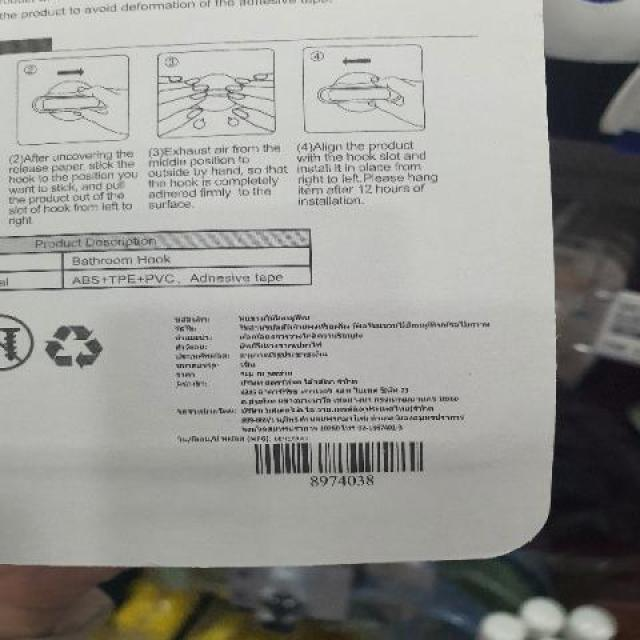Barcode: (245, 438, 436, 486)
